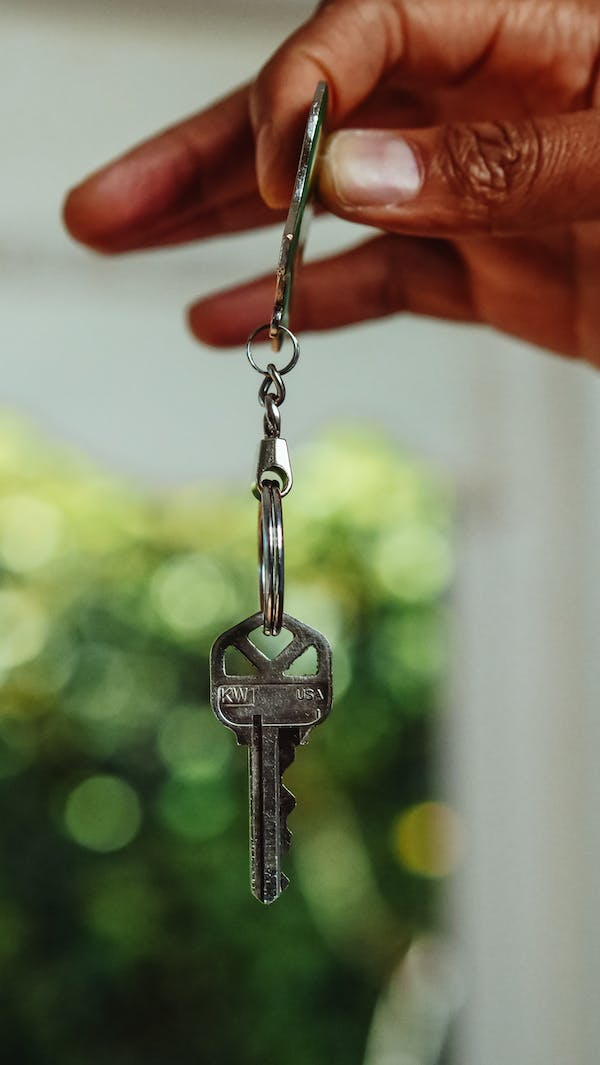key: (211, 607, 334, 907)
